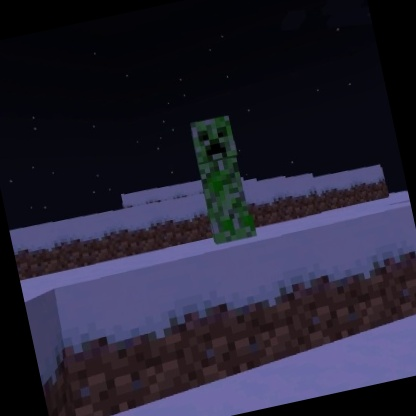creeper: (185, 109, 261, 249)
